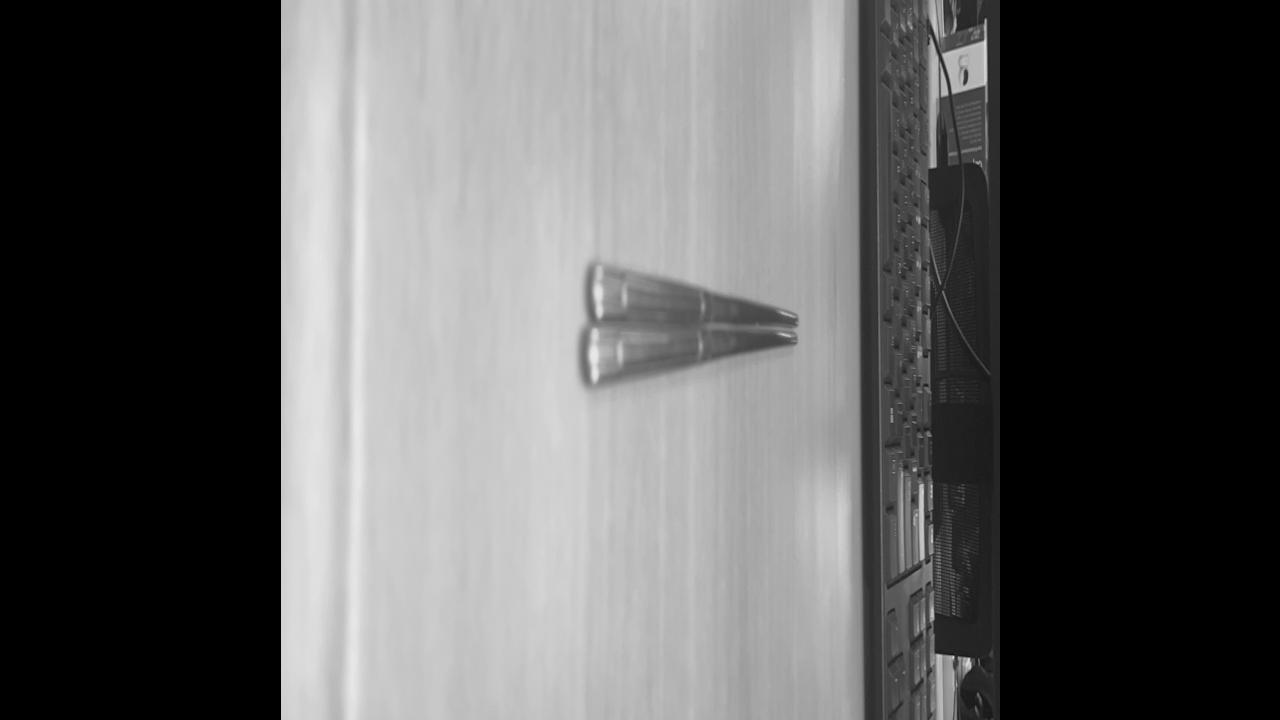chopstick: (588, 260, 798, 382)
